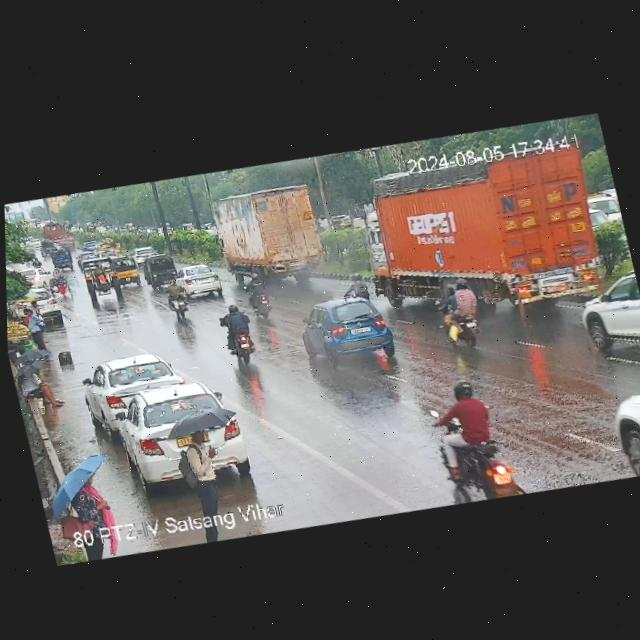car: (111, 372, 251, 497), (80, 345, 191, 447), (297, 285, 404, 373), (570, 269, 640, 369), (606, 374, 640, 479), (6, 278, 65, 332), (172, 261, 226, 305), (138, 250, 181, 288), (104, 253, 144, 289), (48, 244, 75, 274)
motorcycle: (425, 376, 501, 467), (209, 298, 263, 369), (243, 263, 275, 323), (163, 274, 190, 323), (40, 244, 50, 261)
person: (169, 406, 246, 518), (33, 445, 123, 539), (13, 339, 63, 406), (13, 359, 67, 418), (21, 300, 52, 351)
truck: (349, 117, 623, 332), (210, 171, 344, 300), (39, 216, 77, 258)
